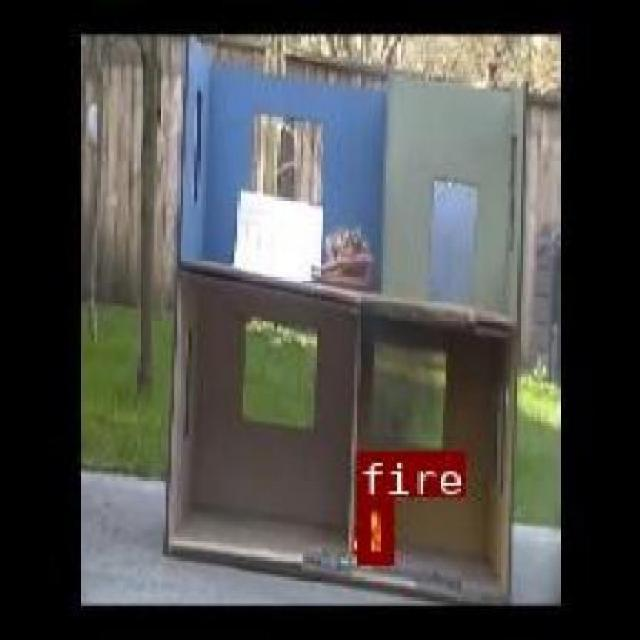Fire: (356, 496, 390, 562)
